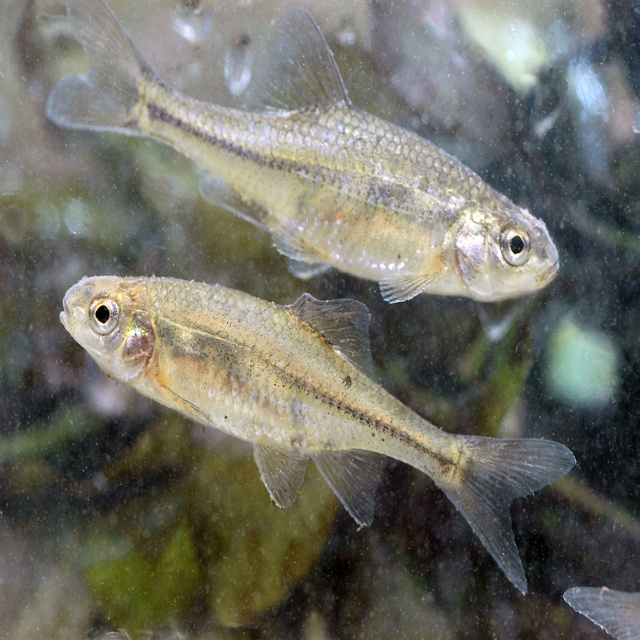Fish: (60, 274, 577, 596), (44, 6, 559, 304), (563, 586, 640, 640)
